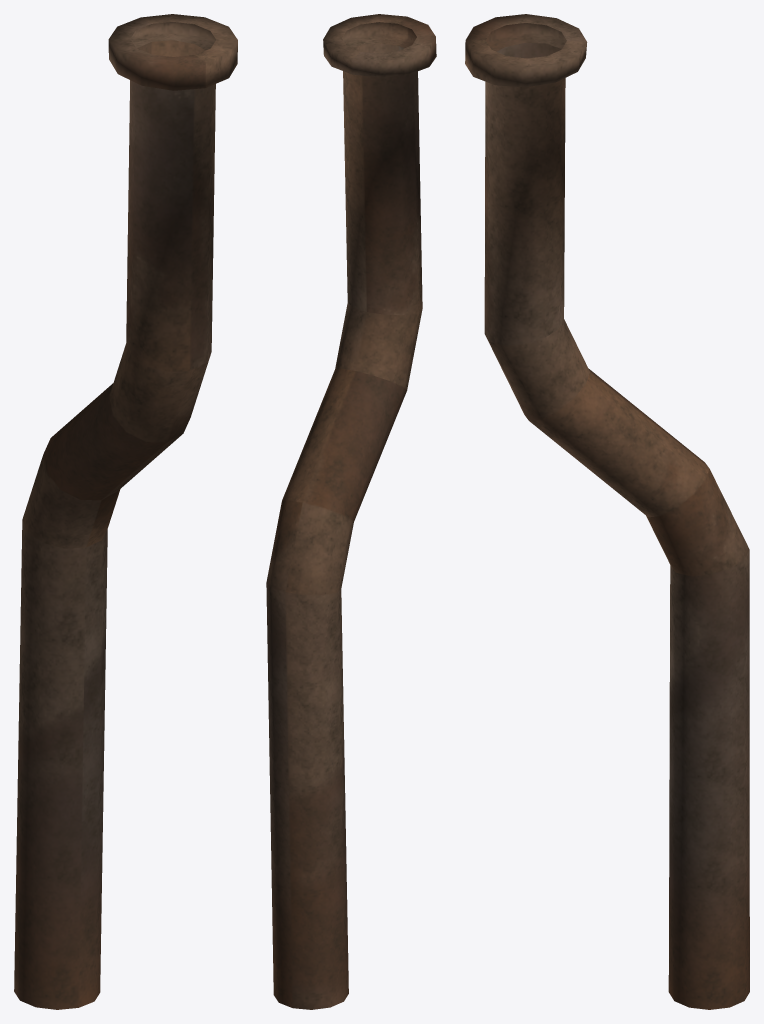
File: Pipe4.fbx
The picture shows the model from 3 angles, left to right: view 1: azimuth 30°, elevation 25°; view 2: azimuth 150°, elevation 25°; view 3: azimuth 270°, elevation 25°; orthographic projection. The views are drawn at different scales.
Visible parts, largest first — view 1: Vert; view 2: Vert; view 3: Vert.
Boxes of the visible parts, x1=… form: Vert: x1=14, y1=14, x2=237, y2=1009; Vert: x1=266, y1=14, x2=436, y2=1009; Vert: x1=465, y1=14, x2=749, y2=1009.
Size of the model in its own units: 132 by 1152 by 309.
1 material, 1 textured.
